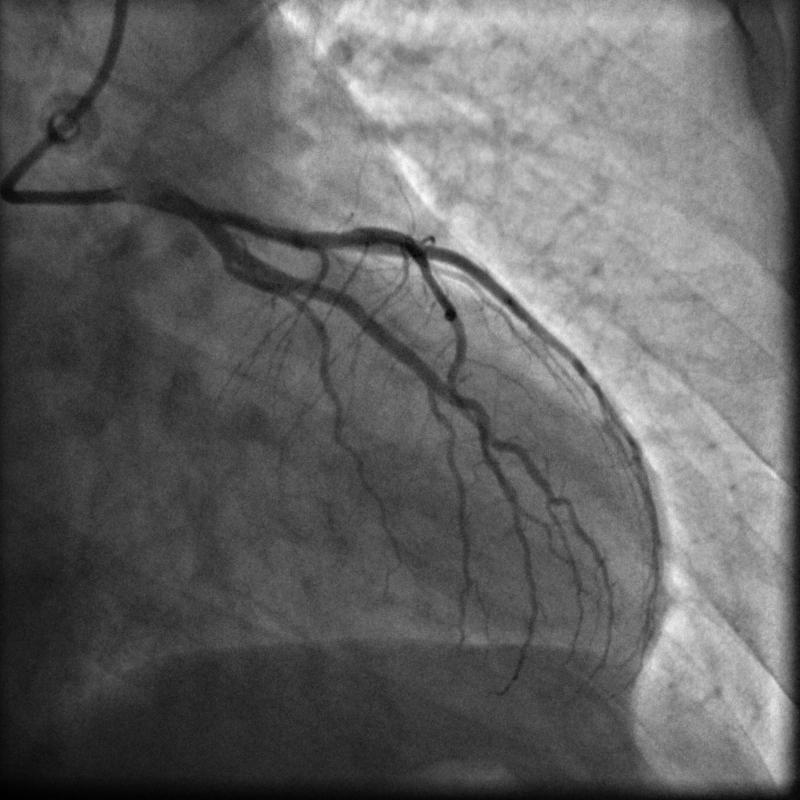Stenosis: (202, 201, 236, 229)
